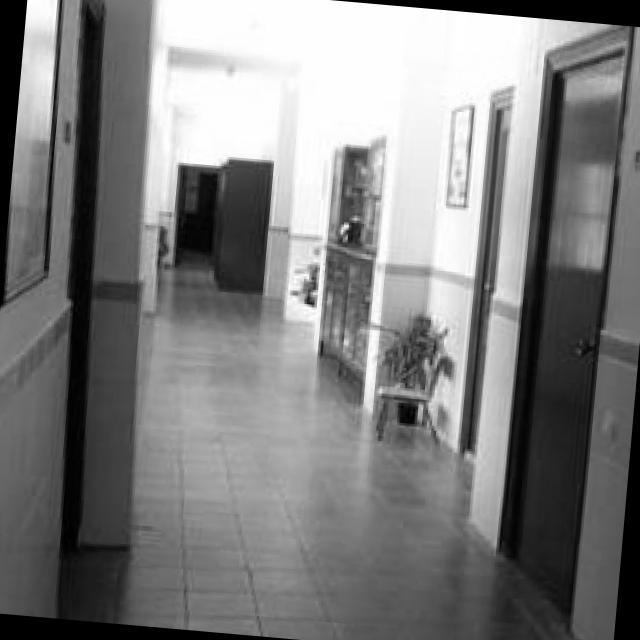armoir: (208, 154, 272, 293)
ceiling beam: (165, 0, 380, 78)
chair -occluded-: (370, 351, 455, 441)
door bars: (493, 26, 629, 626), (57, 0, 105, 603), (456, 79, 514, 467)
floor -X: (58, 253, 575, 640)
hutch: (317, 135, 381, 404)
picture crop: (2, 0, 61, 312), (440, 100, 475, 210)
plant -x: (360, 309, 450, 381)
pot hanger: (394, 402, 419, 424)
wall clock: (267, 5, 614, 546), (82, 0, 169, 544), (0, 0, 71, 616), (574, 26, 640, 640), (157, 71, 276, 263)
